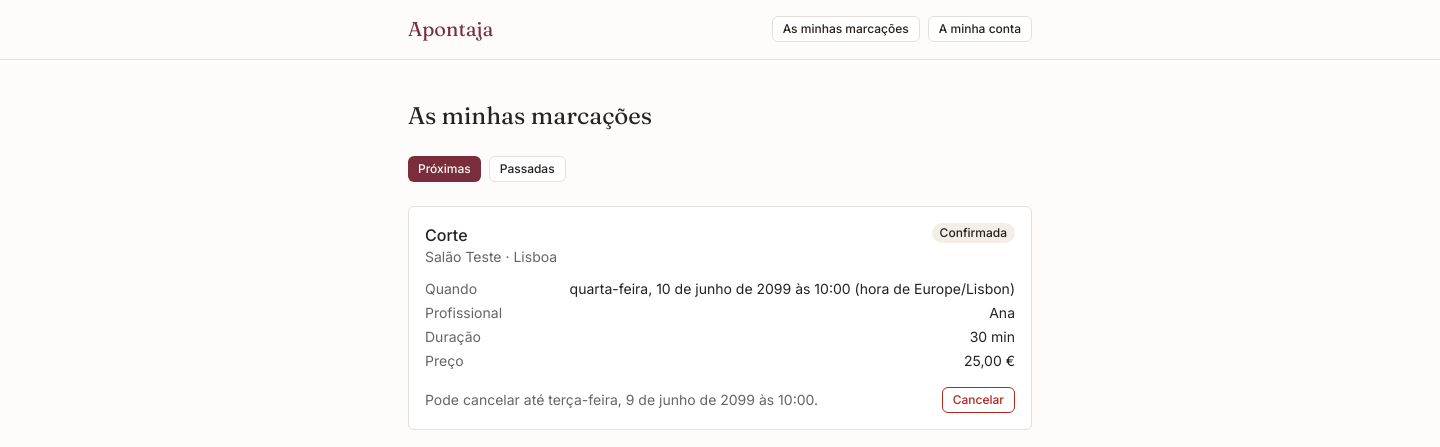
Scenario: MyAppointmentsView (portail client) › liste › passe aux marcações passées
Click the button "Passadas". click: (527, 169)
box: left=489, top=156, right=566, bottom=182
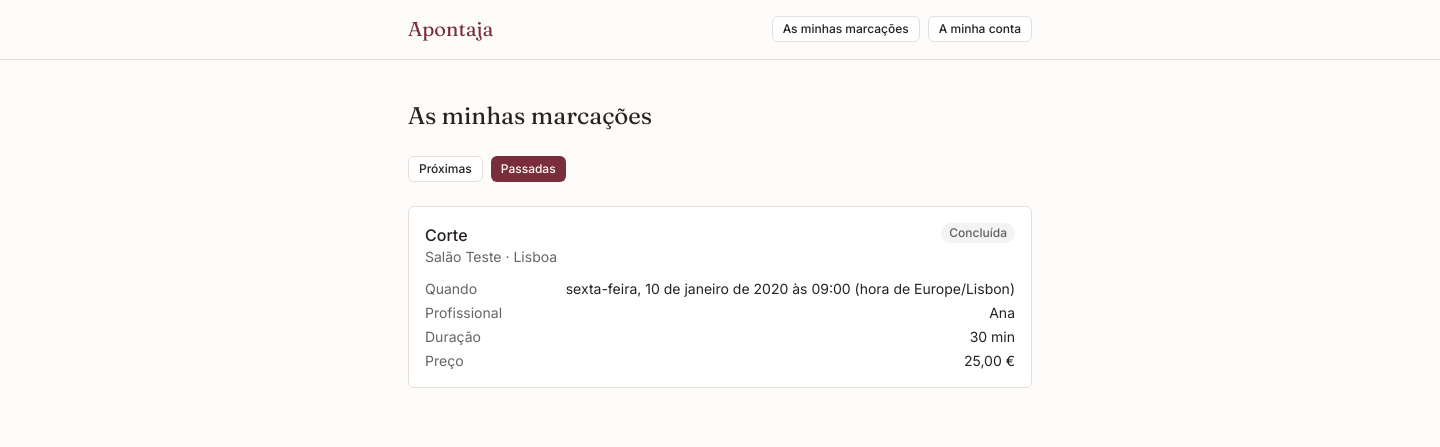
Check: the text "Concluída" is shown, box left=941, top=223, right=1015, bottom=243
